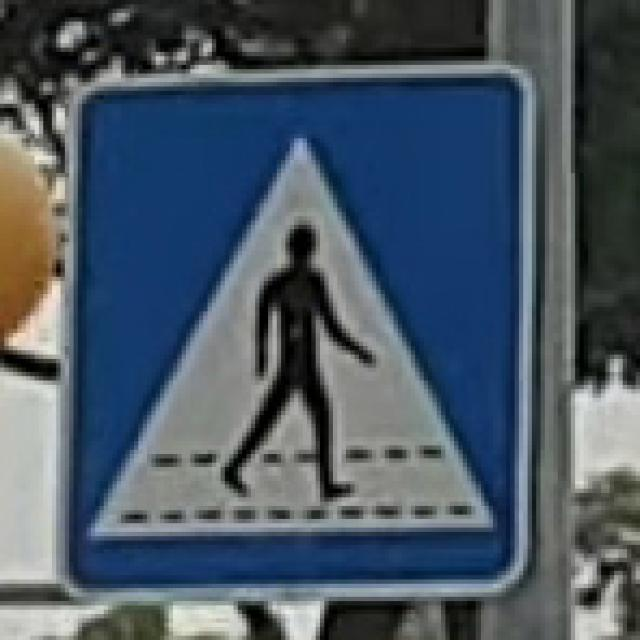zebracrossing_sign: (52, 56, 536, 596)
